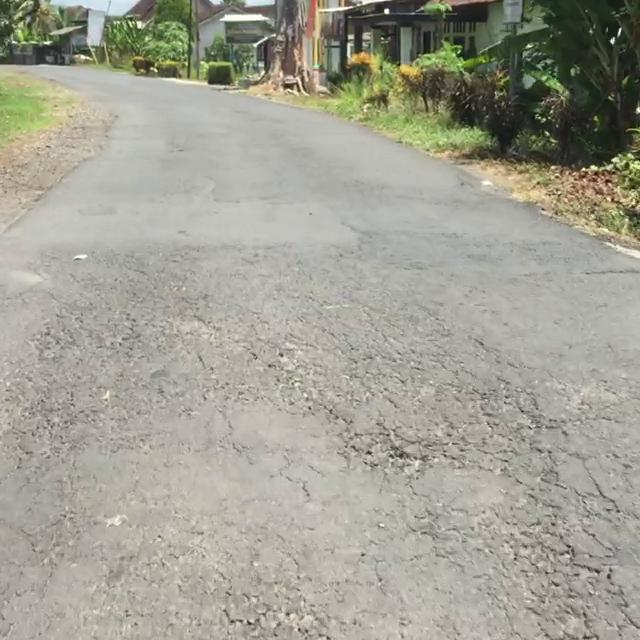retak_kulit_buaya: (428, 495, 640, 640)
